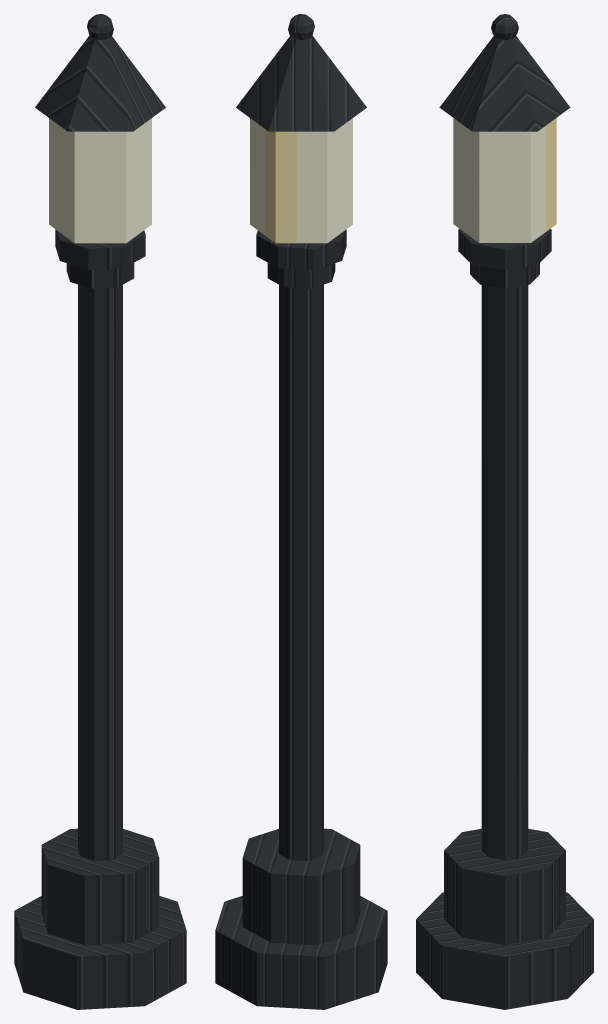
The model's file is StreetLamp.fbx.
3 renders of one model, left to right at view 1: azimuth 30°, elevation 25°; view 2: azimuth 150°, elevation 25°; view 3: azimuth 270°, elevation 25°, orthographic.
Visible parts, largest first — view 1: StreetLamp; view 2: StreetLamp; view 3: StreetLamp.
Boxes of the visible parts, x1,y1,x2,y2 form: StreetLamp: (14, 14, 186, 1009); StreetLamp: (215, 14, 387, 1009); StreetLamp: (416, 14, 593, 1009).
Size of the model in its own units: 76 by 451 by 76.
2 materials, 2 textured.
